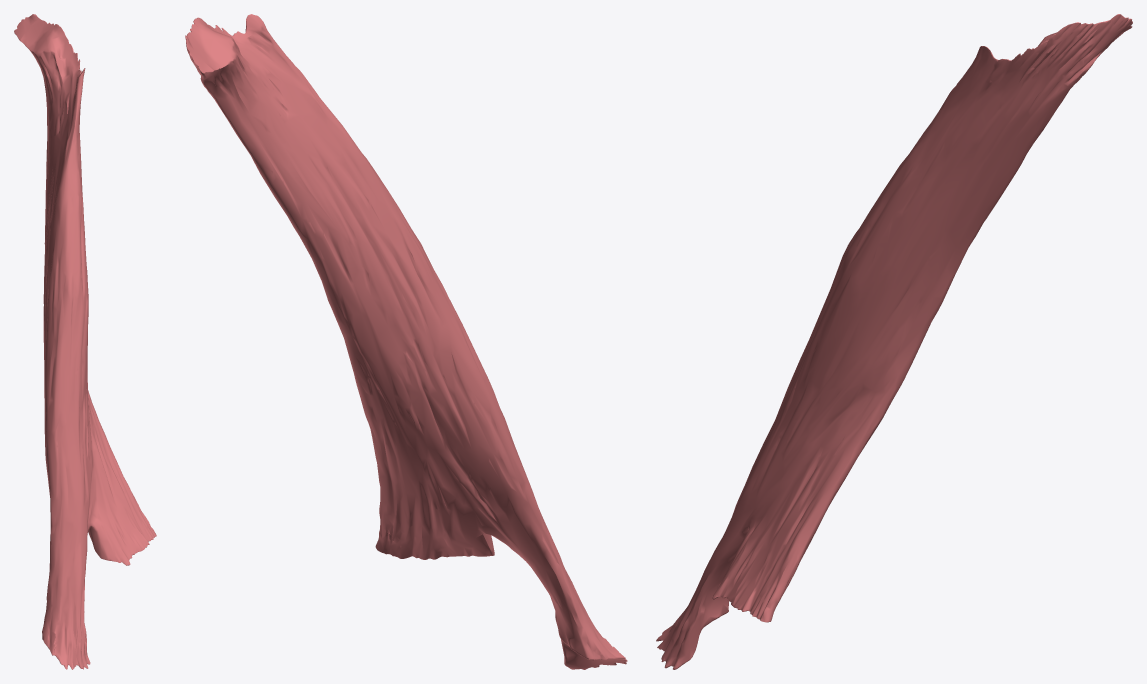
3 views of the same model, side by side, from view 1: azimuth 30°, elevation 25°; view 2: azimuth 150°, elevation 25°; view 3: azimuth 270°, elevation 25° (orthographic). The views are drawn at different scales.
Parts seen in each view (by area): view 1: FJ1573; view 2: FJ1573; view 3: FJ1573.
Boxes of the visible parts, <box> form: FJ1573: <box>14,14,156,669</box>; FJ1573: <box>185,14,627,669</box>; FJ1573: <box>656,14,1132,669</box>.
Bounding box in the file's own units: 0.0608 × 0.2 × 0.1188.
